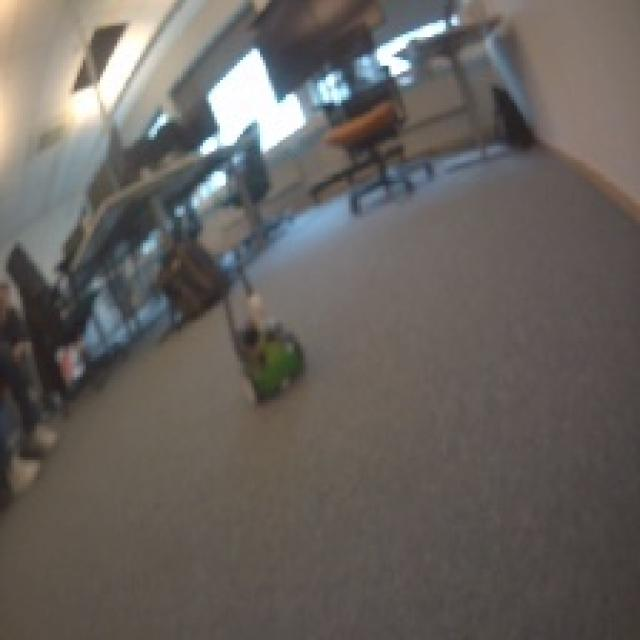robot: (227, 314, 306, 402)
